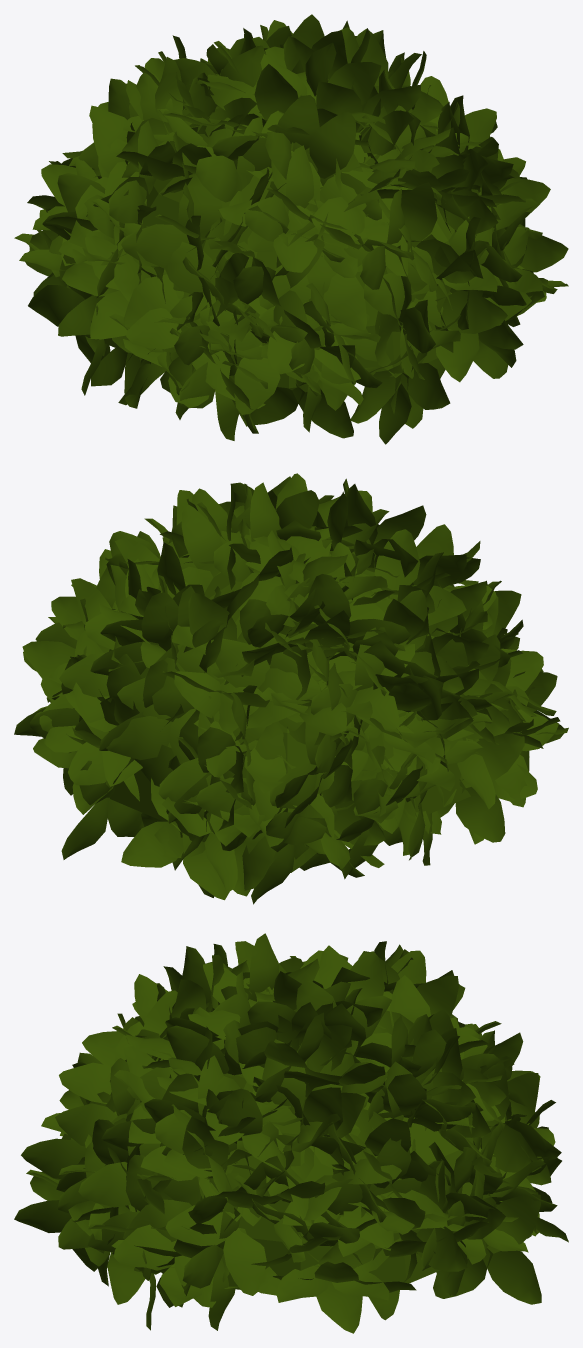
Rendered from bush.fbx.
The picture shows the model from 3 angles, top to bottom: view 1: azimuth 30°, elevation 25°; view 2: azimuth 150°, elevation 25°; view 3: azimuth 270°, elevation 25°; orthographic projection.
Visible parts, largest first — view 1: Bush, Bush|Leaf|Dupli|274, Bush|Leaf|Dupli|271, Bush|Leaf|Dupli|56, Bush|Leaf|Dupli|249, Bush|Leaf|Dupli|105, Bush|Leaf|Dupli|226, Bush|Leaf|Dupli|195, Bush|Leaf|Dupli|134, Bush|Leaf|Dupli|30, Bush|Leaf|Dupli|39, Bush|Leaf|Dupli|214 (+98 smaller); view 2: Bush, Bush|Leaf|Dupli|87, Bush|Leaf|Dupli|181, Bush|Leaf|Dupli|18, Bush|Leaf|Dupli|177, Bush|Leaf|Dupli|258, Bush|Leaf|Dupli|74, Bush|Leaf|Dupli|93, Bush|Leaf|Dupli|275, Bush|Leaf|Dupli|156, Bush|Leaf|Dupli|171, Bush|Leaf|Dupli|32 (+106 smaller); view 3: Bush, Bush|Leaf|Dupli|177, Bush|Leaf|Dupli|220, Bush|Leaf|Dupli|161, Bush|Leaf|Dupli|158, Bush|Leaf|Dupli|174, Bush|Leaf|Dupli|155, Bush|Leaf|Dupli|139, Bush|Leaf|Dupli|45, Bush|Leaf|Dupli|230, Bush|Leaf|Dupli|245, Bush|Leaf|Dupli|84 (+99 smaller).
Part boxes in pixels (box(x1,y1,x2,y2)): Bush: box(91, 107, 455, 388); Bush|Leaf|Dupli|274: box(259, 205, 384, 330); Bush|Leaf|Dupli|271: box(121, 174, 222, 291); Bush|Leaf|Dupli|56: box(255, 112, 381, 220); Bush|Leaf|Dupli|249: box(242, 331, 355, 438); Bush|Leaf|Dupli|105: box(379, 300, 450, 444); Bush|Leaf|Dupli|226: box(364, 233, 451, 378); Bush|Leaf|Dupli|195: box(245, 145, 314, 267); Bush|Leaf|Dupli|134: box(423, 234, 507, 378); Bush|Leaf|Dupli|30: box(199, 306, 308, 414); Bush|Leaf|Dupli|39: box(311, 167, 408, 276); Bush|Leaf|Dupli|214: box(401, 182, 474, 283); Bush: box(109, 569, 470, 830); Bush|Leaf|Dupli|87: box(121, 778, 229, 900); Bush|Leaf|Dupli|181: box(414, 732, 524, 842); Bush|Leaf|Dupli|18: box(106, 657, 194, 760); Bush|Leaf|Dupli|177: box(61, 760, 143, 859); Bush|Leaf|Dupli|258: box(211, 629, 317, 744); Bush|Leaf|Dupli|74: box(374, 529, 466, 625); Bush|Leaf|Dupli|93: box(90, 592, 178, 675); Bush|Leaf|Dupli|275: box(161, 504, 222, 598); Bush|Leaf|Dupli|156: box(298, 574, 410, 644); Bush|Leaf|Dupli|171: box(68, 682, 139, 801); Bush|Leaf|Dupli|32: box(177, 637, 320, 733); Bush: box(125, 1033, 498, 1289); Bush|Leaf|Dupli|177: box(433, 1194, 541, 1304); Bush|Leaf|Dupli|220: box(165, 1182, 266, 1295); Bush|Leaf|Dupli|161: box(182, 1186, 240, 1330); Bush|Leaf|Dupli|158: box(166, 1025, 278, 1075); Bush|Leaf|Dupli|174: box(113, 1224, 215, 1307); Bush|Leaf|Dupli|155: box(276, 1264, 389, 1302); Bush|Leaf|Dupli|139: box(123, 1142, 241, 1282); Bush|Leaf|Dupli|45: box(404, 1160, 467, 1281); Bush|Leaf|Dupli|230: box(480, 1063, 541, 1172); Bush|Leaf|Dupli|245: box(258, 1237, 401, 1333); Bush|Leaf|Dupli|84: box(315, 1138, 421, 1214).
Bounding box in the file's own units: 253 × 169 × 262.
